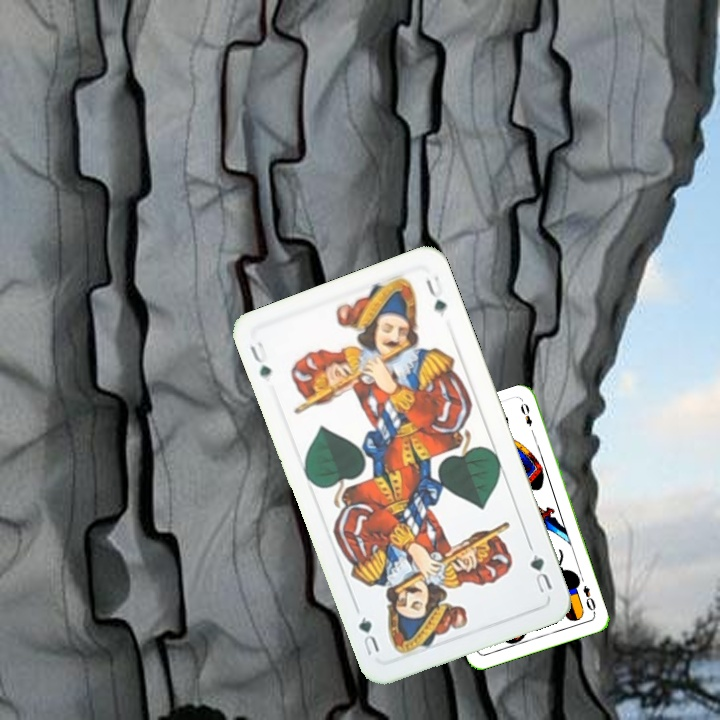EO: (579, 581, 598, 616)
GU: (526, 550, 555, 596), (246, 337, 274, 382)
